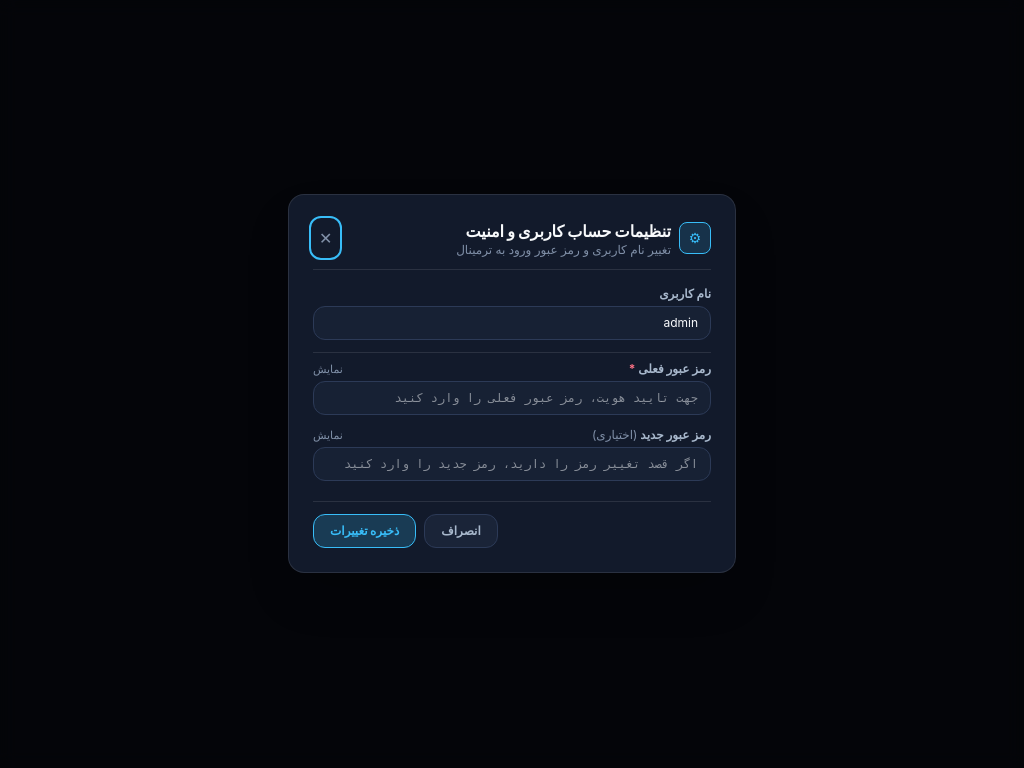
Test case: پنجره تنظیمات کاربر و امنیت (UserSettingsModal) › عدم تطابق رمز عبور جدید و تکرار آن خطای متناظر را نشان می‌دهد
The width and height of the screenshot is (1024, 768).
Type "bors123" into the password field with placeholder "جهت تایید هویت، رمز عبور فعلی را وارد کنید". click: [512, 399]
box: [313,382,711,416]
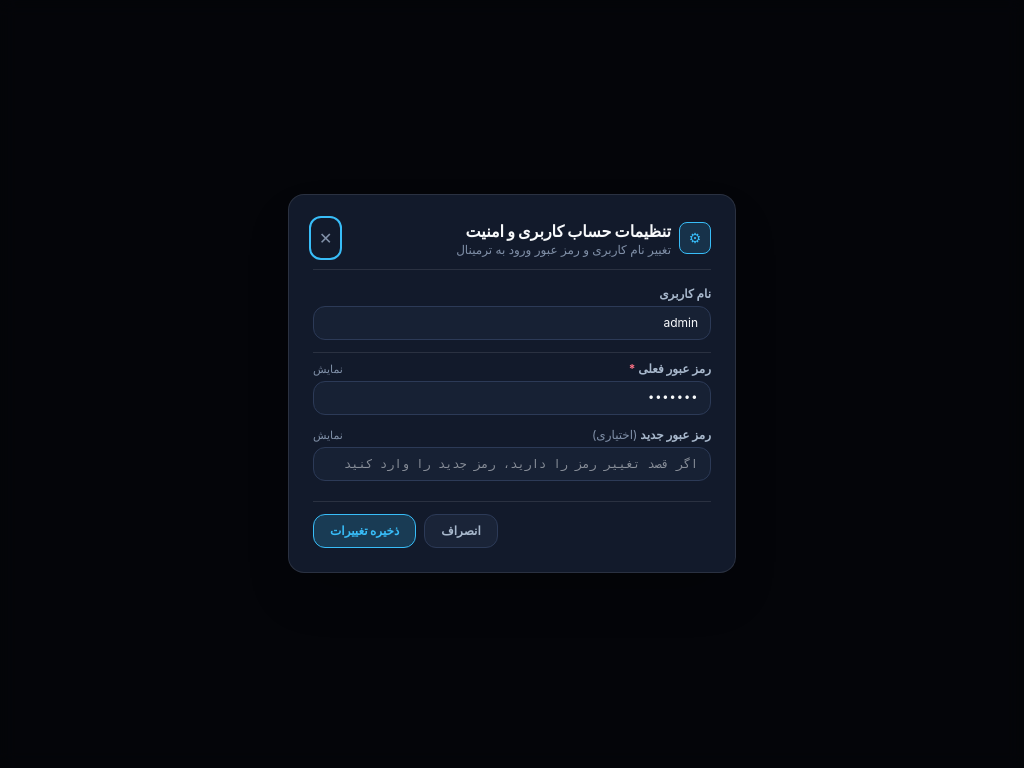
Type "newpass123" into the password field with placeholder "اگر قصد تغییر رمز را دارید، رمز جدید را وارد کنید". click: [512, 465]
box: [313,448,711,482]
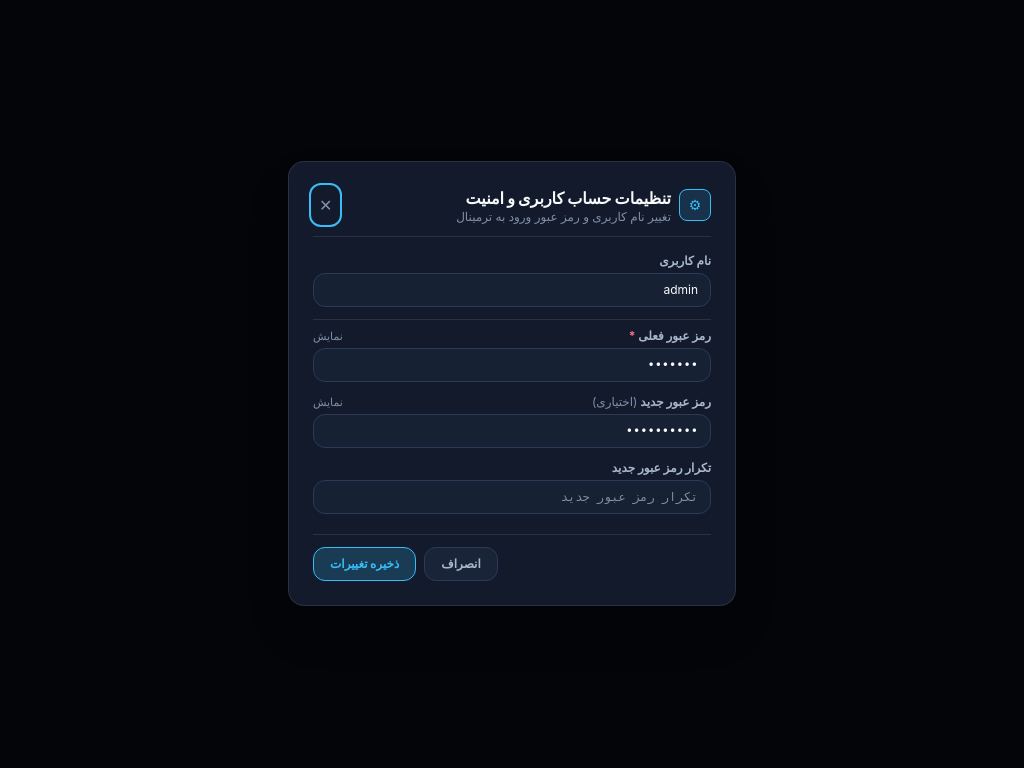
Type "different" into the password field with placeholder "تکرار رمز عبور جدید". click: [512, 498]
box: [313,481,711,515]
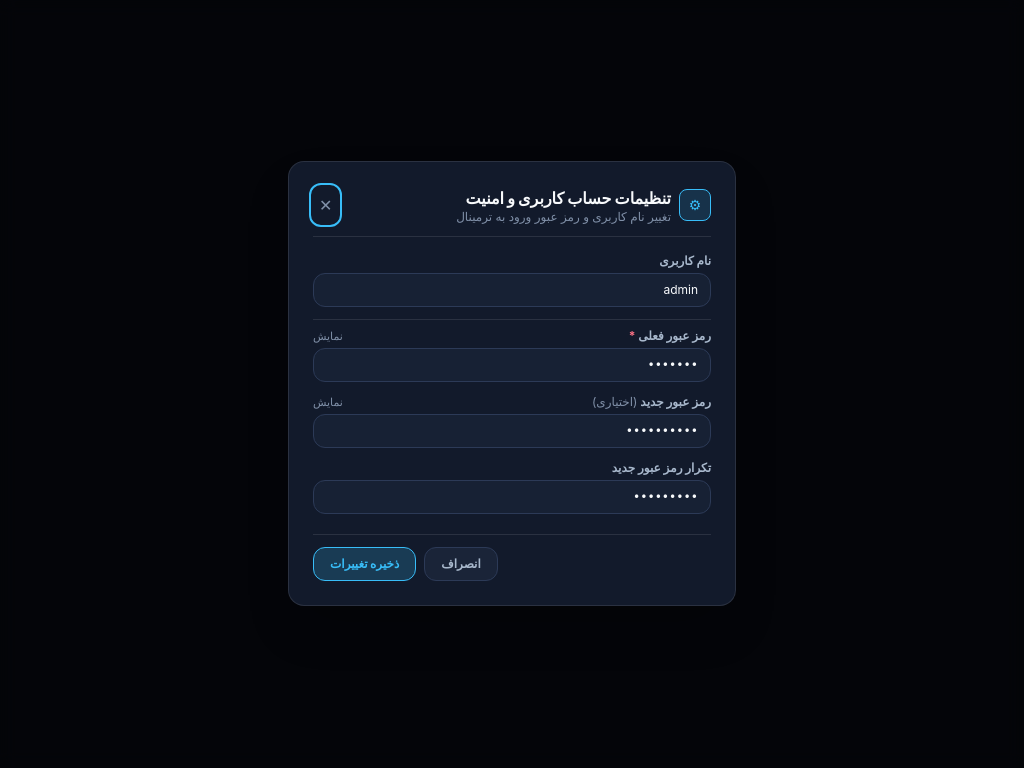
Submit the text "ذخیره تغییرات", box [313,254,711,582]
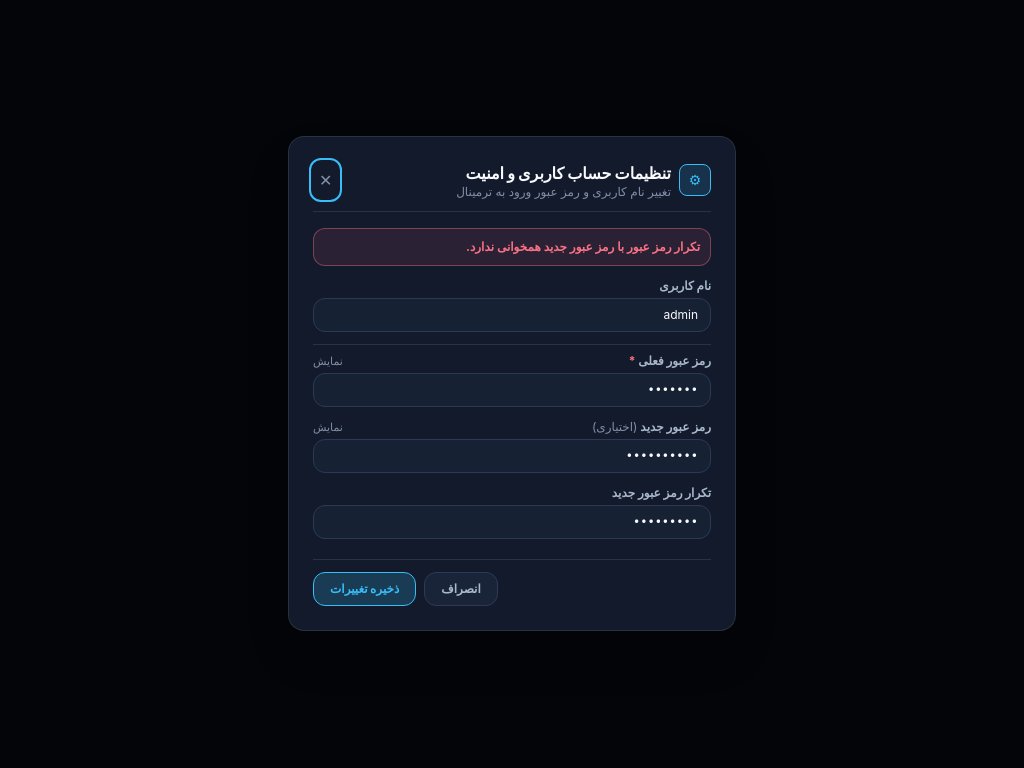
Now the message shows "همخوانی", box [466,240,700,255]
